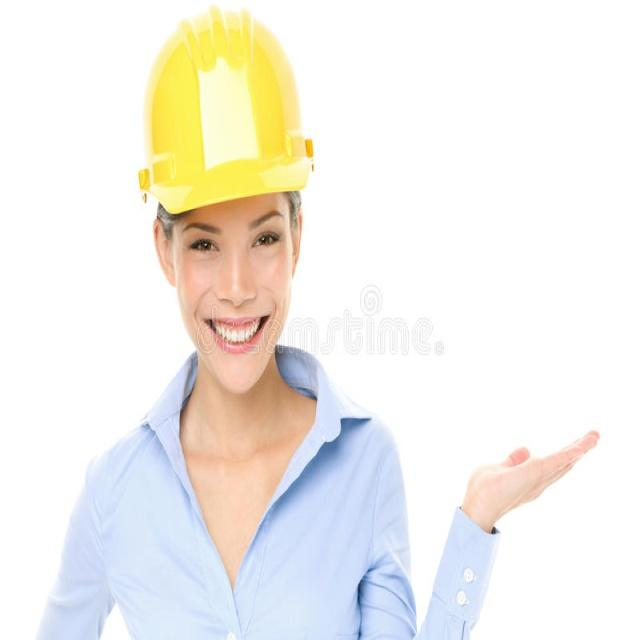helmet: (137, 4, 315, 532)
